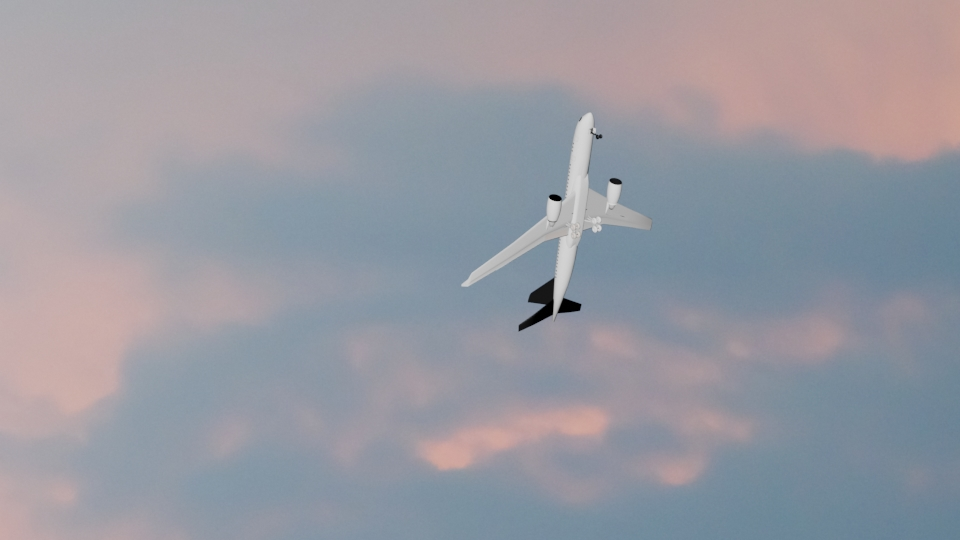plane: (461, 109, 656, 338)
